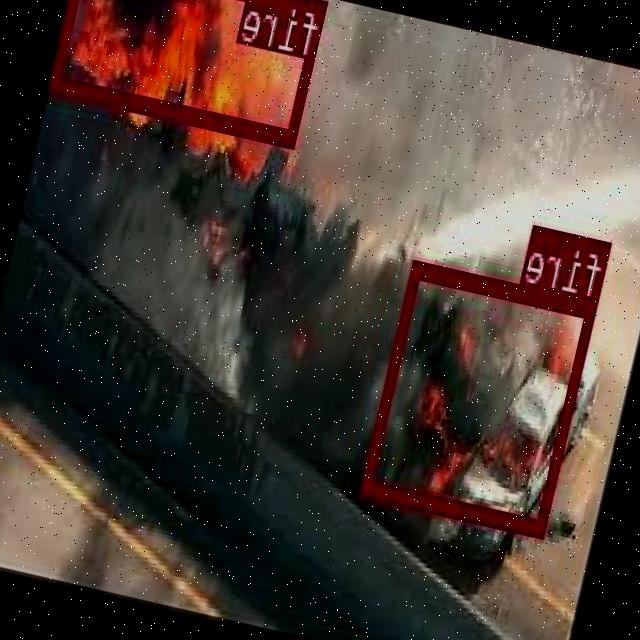fire: (363, 258, 600, 536), (50, 0, 328, 145)
